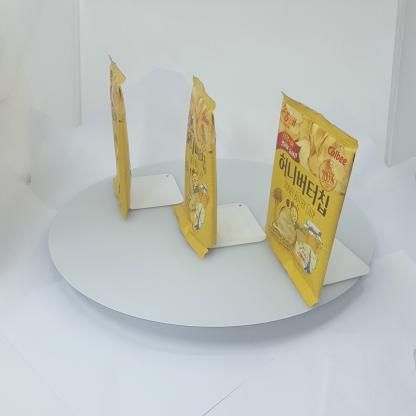Plastic Packaging: (270, 94, 344, 308), (180, 76, 226, 258), (100, 44, 138, 221)
